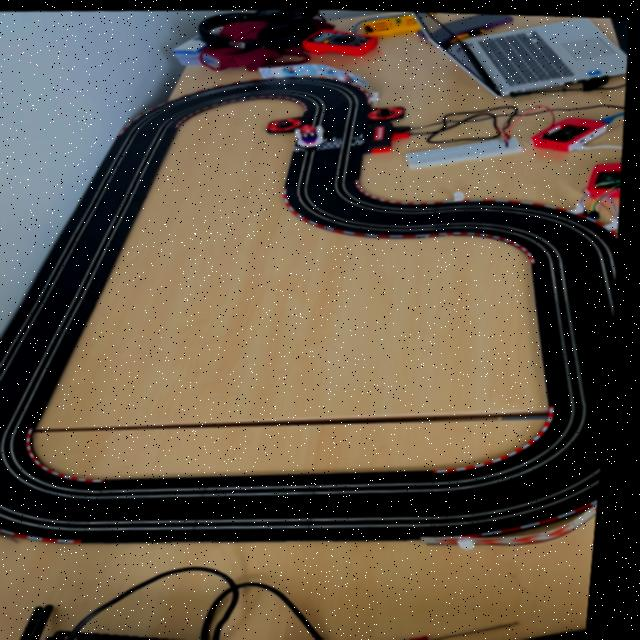mario: (292, 120, 332, 148)
